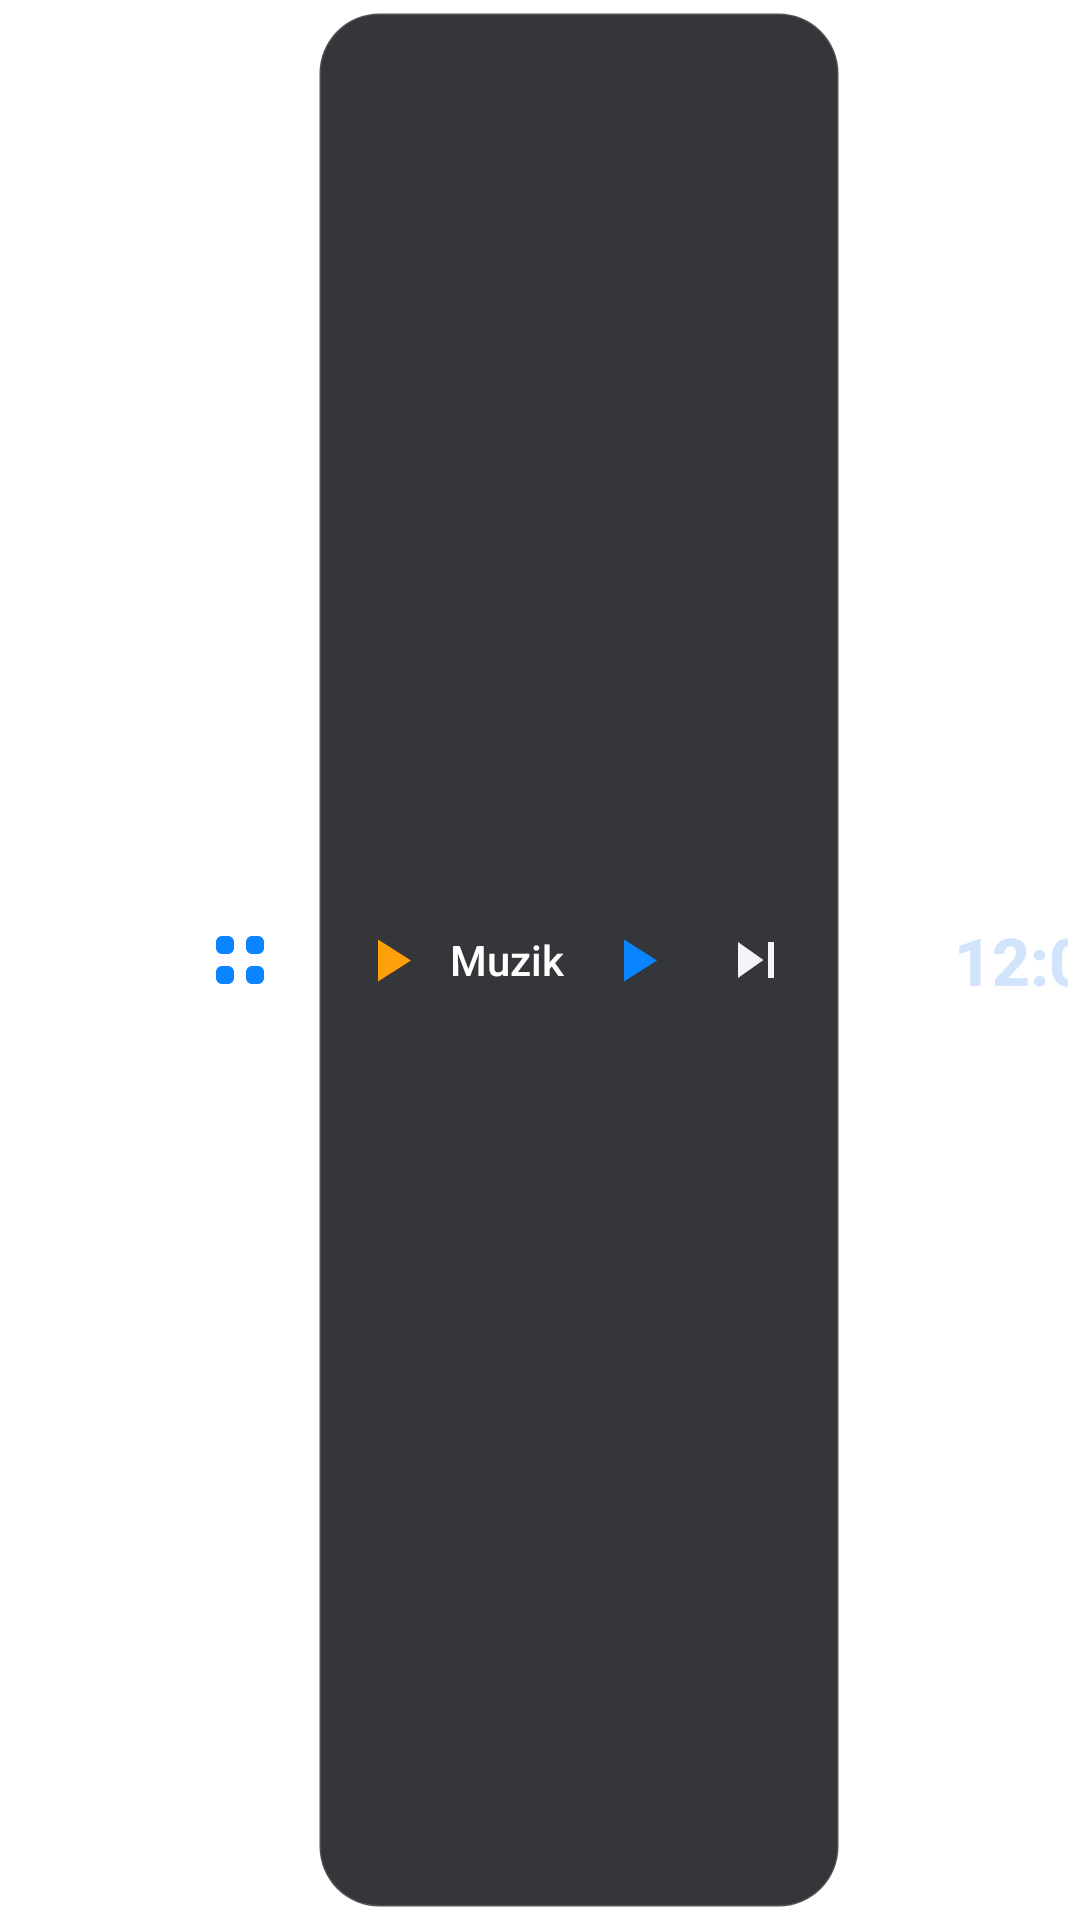

Where icons sit on this 1080×1920 app screen, as box(x1, y1, x2, y2):
Apps: box(216, 936, 264, 984)
dock next: box(738, 942, 774, 978)
dock play: box(378, 939, 411, 982), box(624, 939, 657, 982)
